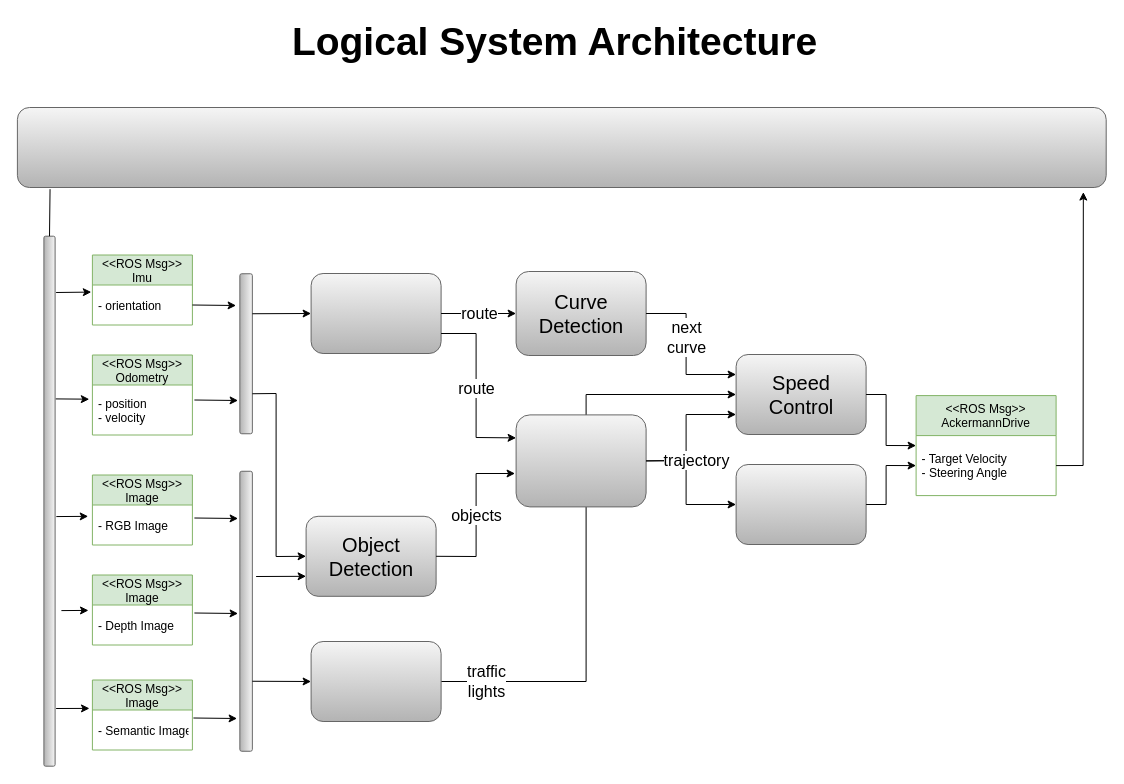
Some shapes in this 1124 by 784 pixel diagram are drawn without their labels. The shapes that lost their labels are listed below. From the top down, each one's box as (x1, y1, x2, y2) in pixels, then its label:
(16, 106, 1106, 188): CARLA Simulator + ROS Bridge
(310, 272, 441, 354): Route Planning
(515, 414, 646, 507): Object Avoidance
(735, 464, 866, 544): Steering Control
(310, 640, 441, 722): Traffic Light Detection
